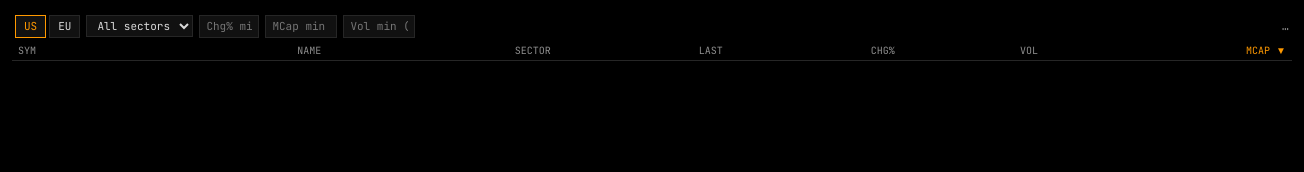
Test case: ScreenerWidget › explains the empty EU market with the API's X-Market-Note
This screenshot has width=1304, height=172.
What coordinates should you click on to do the following:
click the button "EU"
I would click on:
 (65, 26)
Its box is [49,15,80,38].
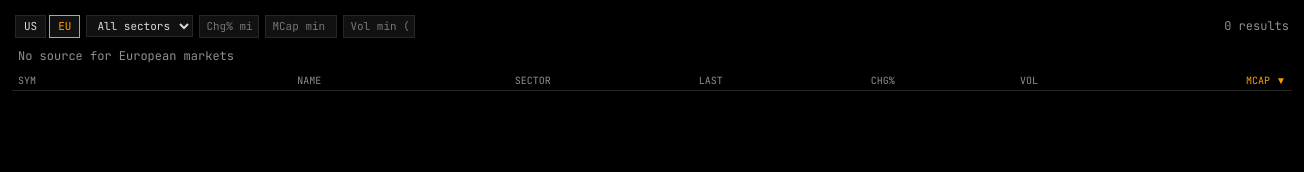
Expected: the text "No source for European markets" is shown, [18,48,234,64]
